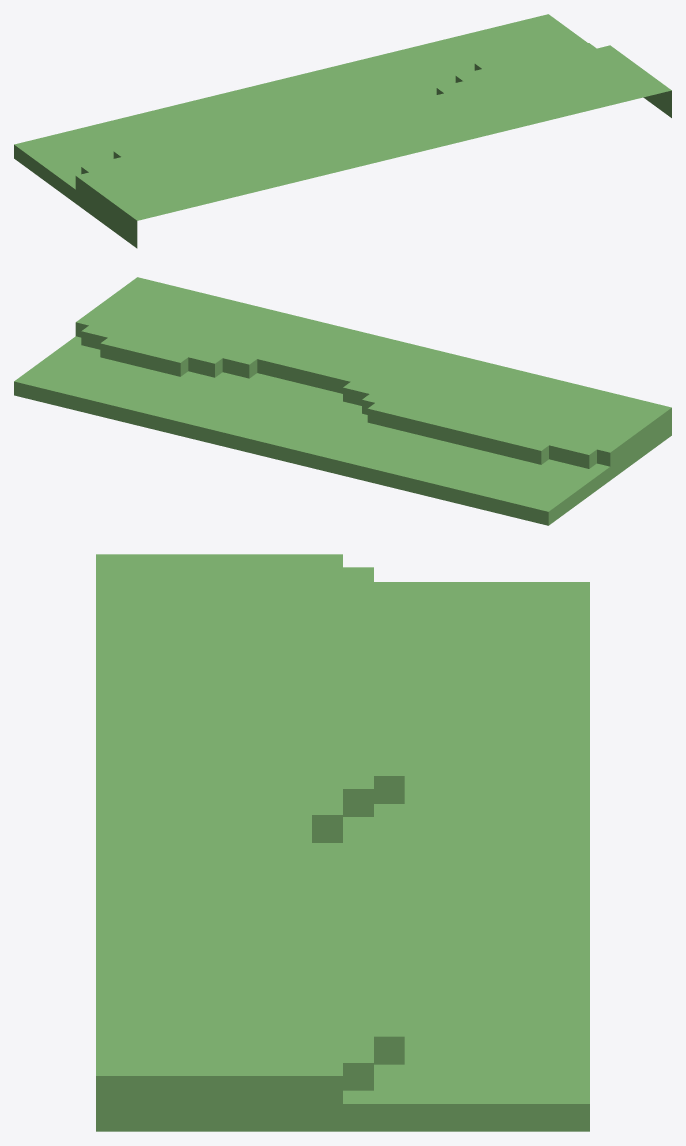
File: Straight5-1step-1.fbx
3 views of the same model, one above another, from view 1: azimuth 30°, elevation 25°; view 2: azimuth 150°, elevation 25°; view 3: azimuth 270°, elevation 25° (orthographic). The views are drawn at different scales.
Visible parts, largest first — view 1: Straight5-1step-1; view 2: Straight5-1step-1; view 3: Straight5-1step-1.
Part boxes in pixels (left/top/right/bottom): Straight5-1step-1: left=14, top=14, right=671, bottom=248; Straight5-1step-1: left=14, top=277, right=671, bottom=525; Straight5-1step-1: left=96, top=554, right=589, bottom=1131.
Size of the model in its own units: 40 by 2 by 16.
1 material, 1 textured.
